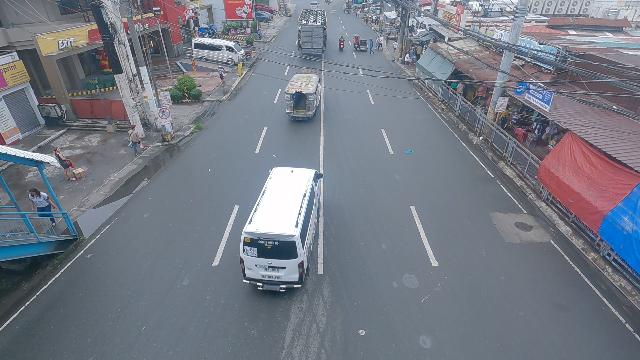jeepney: (283, 72, 324, 121)
motorcycle: (337, 36, 346, 52)
truck: (297, 9, 327, 56)
van: (238, 166, 326, 292), (189, 36, 245, 67), (310, 2, 319, 10)
